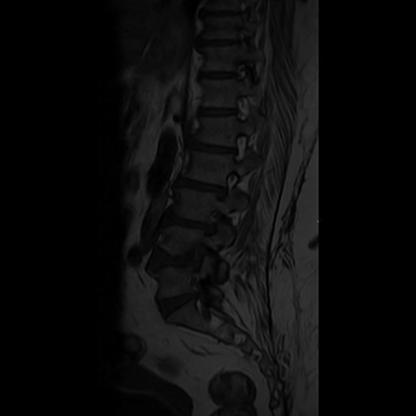Disc Bulgerotation: (145, 238, 213, 280), (153, 289, 207, 321), (159, 207, 220, 234), (171, 174, 234, 198)
